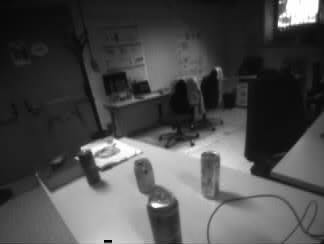Tin can: (150, 192, 179, 242), (201, 151, 220, 199), (81, 150, 99, 184), (136, 159, 153, 191)
